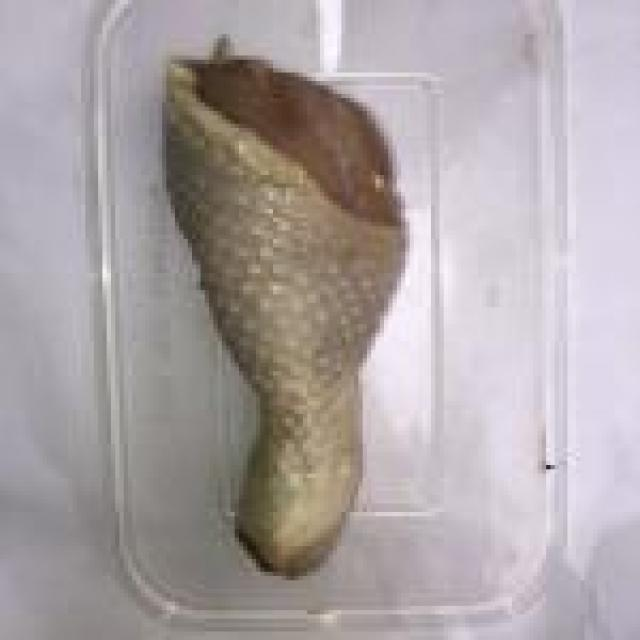leg: (156, 41, 412, 574)
